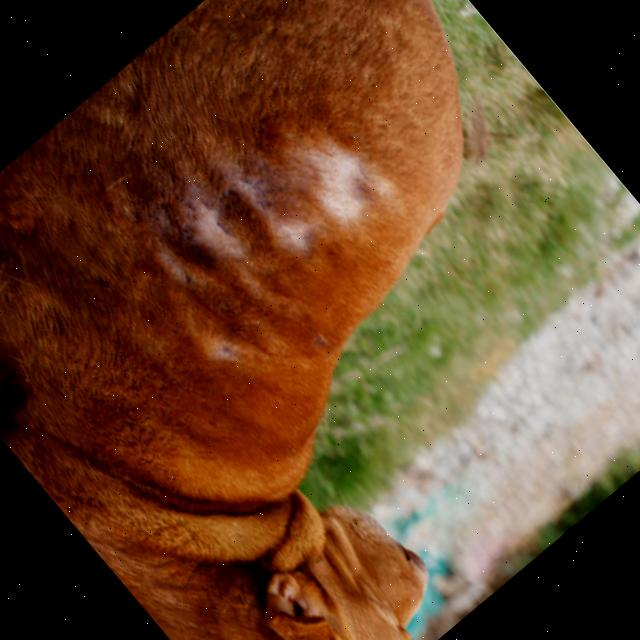cat-hairloss: (136, 110, 404, 371)
